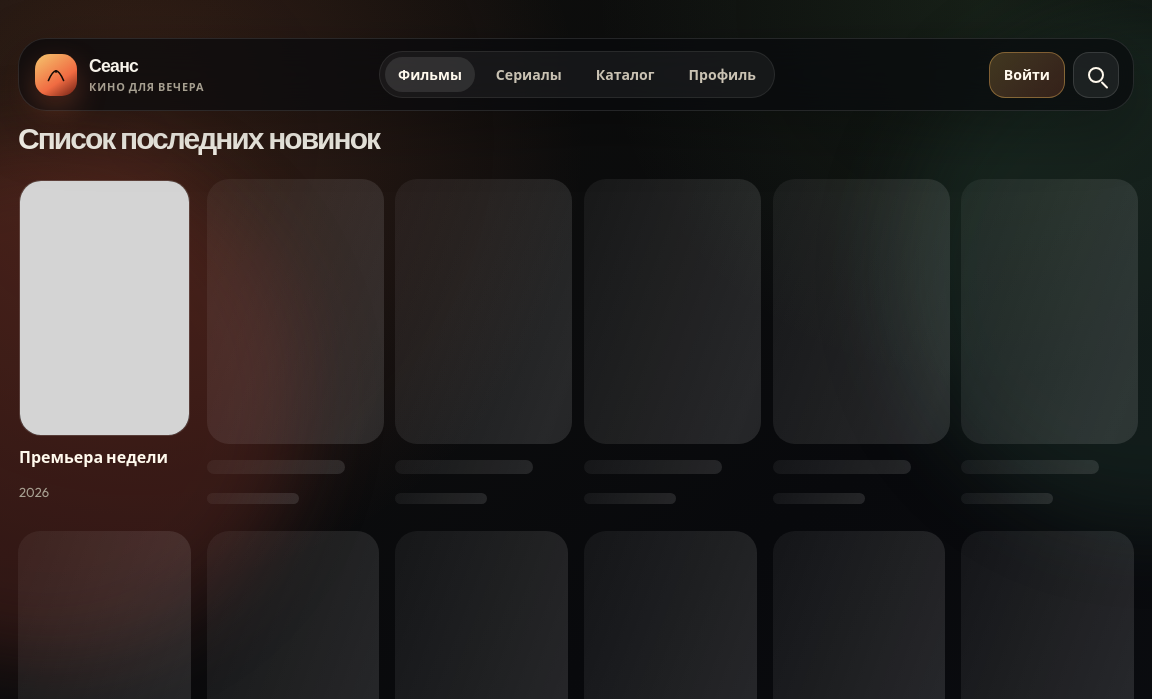
Test case: App › loads home section after leaving a filtered catalog view
Click the button "Каталог". click: (625, 74)
box: [583,57,668,92]
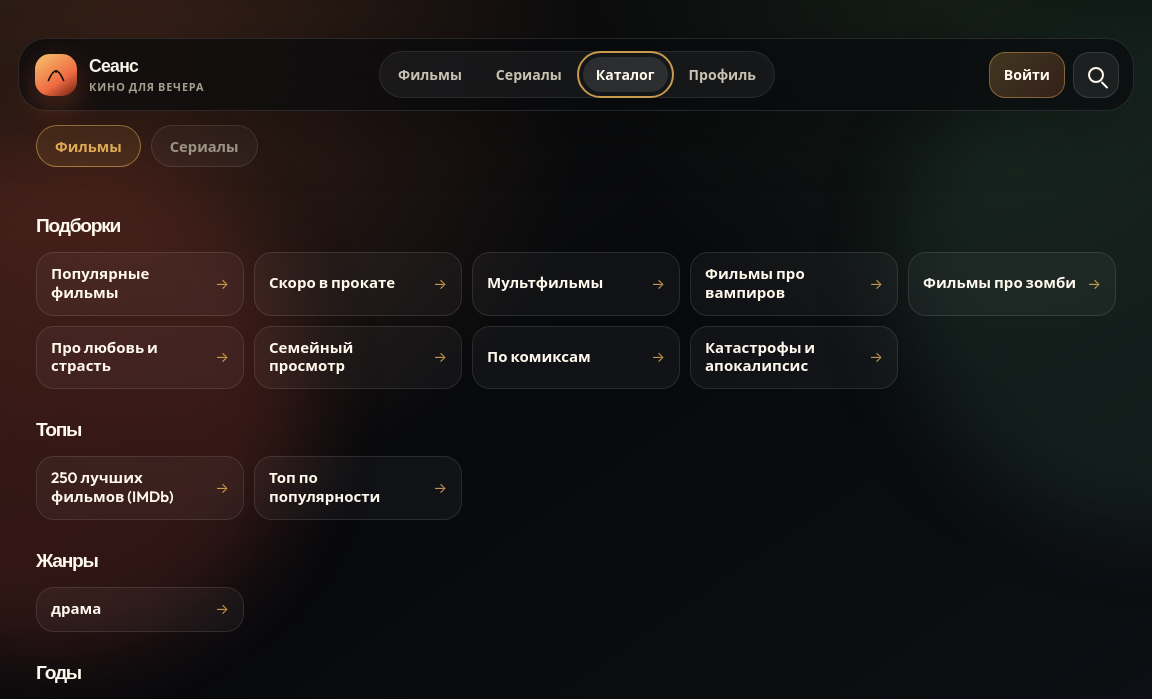
Click the button "драма →". click: (140, 609)
box: [36,587,244,632]
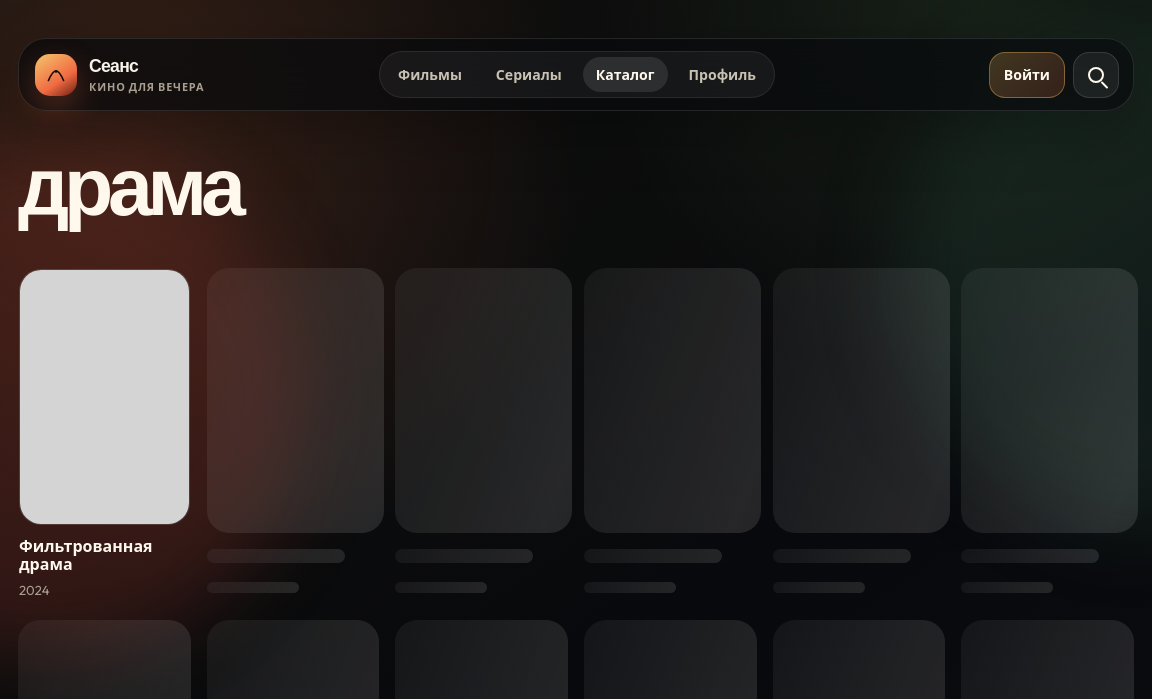
Now the text "Фильтрованная драма" is shown, box [19,536,153,574]
Click the button "Фильмы". click: (430, 74)
box: [385,57,475,92]
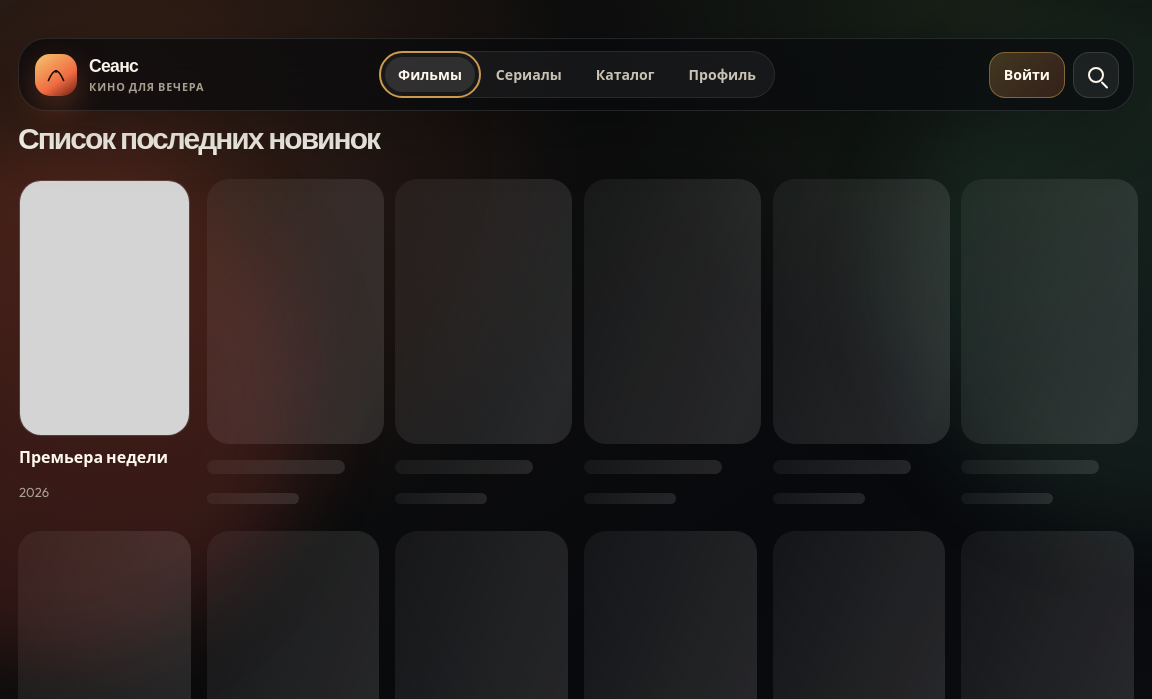
Now the text "Премьера недели" is shown, box [19,448,190,479]
Now the link "Фильтрованная драма" is gone
